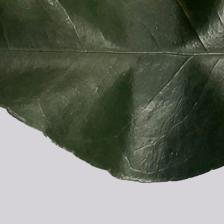healthy: (0, 4, 224, 113)
